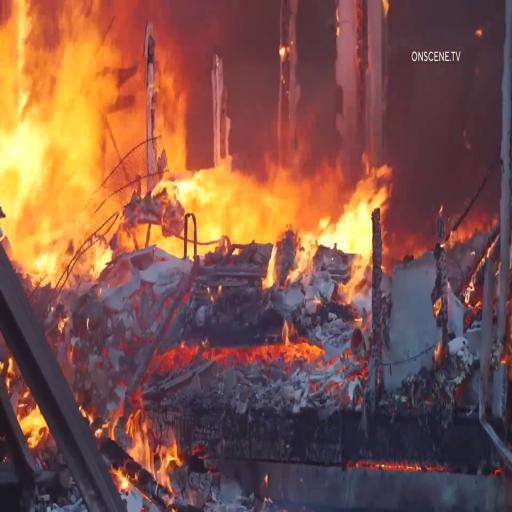fire: (5, 0, 390, 246)
